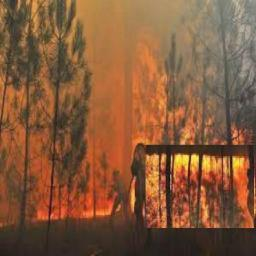Large fire: (0, 20, 255, 232)
